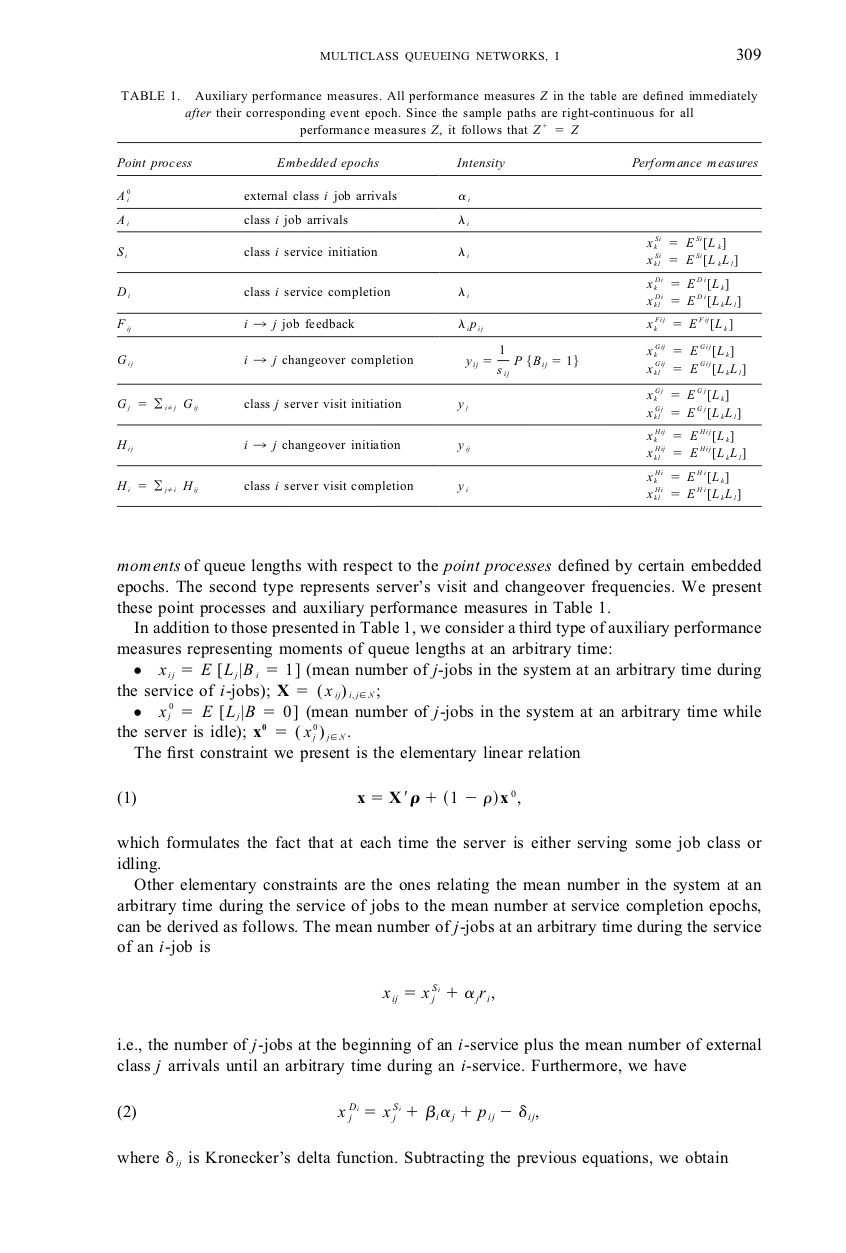Table: (116, 142, 761, 506)
formula: (117, 1102, 538, 1123), (117, 789, 520, 807), (382, 982, 494, 1004)
